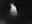person: (9, 4, 19, 18)
